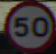Speed limit: (3, 2, 54, 45)
